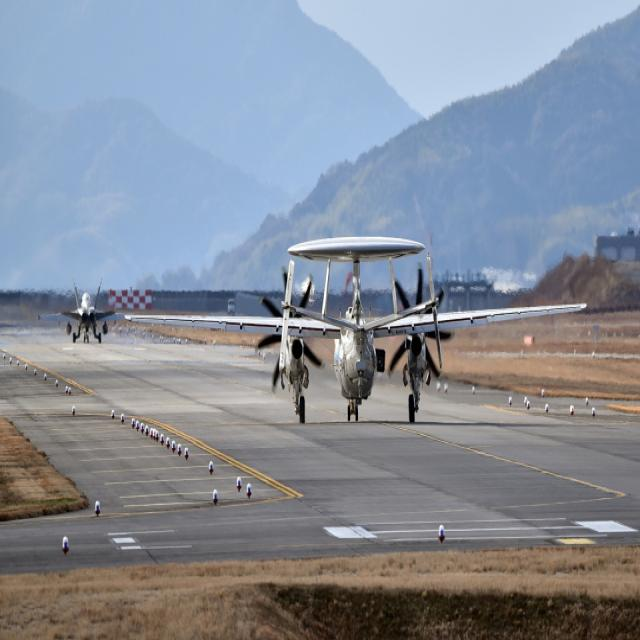MIL_Plane: (124, 261, 587, 399), (34, 276, 138, 344)
